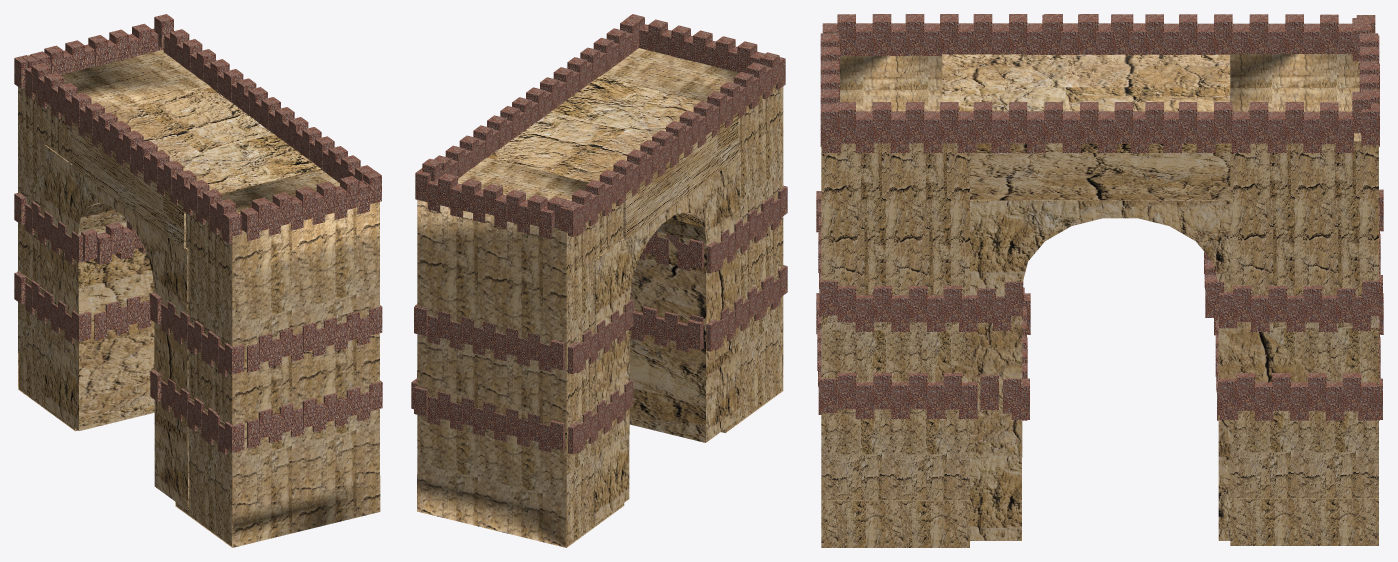
File: Sumerian_entrance.fbx
3 renders of one model, left to right at view 1: azimuth 30°, elevation 25°; view 2: azimuth 150°, elevation 25°; view 3: azimuth 270°, elevation 25°, orthographic. The views are drawn at different scales.
Visible parts, largest first — view 1: Cube.151, Circle, Cube.149, Cube.340, Cube.652, Cube.649, Cube.604, Cube.364, Cube.416, Cube.417, Cube.418, Cube.414 (+10 smaller); view 2: Cube.340, Circle, Cube.149, Cube.151, Cube.362, Cube.429, Cube.422, Cube.414, Cube.421, Cube.626, Cube.437; view 3: Cube.151, Cube.340, Cube.149, Circle, Cube.398, Cube.406, Cube.390, Cube.386, Cube.383, Cube.425, Cube.403, Cube.412 (+65 smaller).
Part boxes in pixels (x1=…): Cube.151: x1=175, y1=170, x2=380, y2=547; Circle: x1=44, y1=145, x2=189, y2=510; Cube.149: x1=72, y1=88, x2=321, y2=249; Cube.340: x1=17, y1=49, x2=211, y2=431; Cube.652: x1=224, y1=421, x2=244, y2=452; Cube.649: x1=224, y1=343, x2=244, y2=374; Cube.604: x1=71, y1=310, x2=91, y2=341; Cube.364: x1=222, y1=211, x2=241, y2=244; Cube.416: x1=240, y1=207, x2=259, y2=241; Cube.417: x1=251, y1=197, x2=271, y2=231; Cube.418: x1=295, y1=186, x2=315, y2=220; Cube.414: x1=272, y1=192, x2=292, y2=225; Cube.340: x1=417, y1=158, x2=624, y2=547; Circle: x1=593, y1=154, x2=739, y2=523; Cube.149: x1=488, y1=76, x2=738, y2=240; Cube.151: x1=600, y1=48, x2=783, y2=433; Cube.362: x1=560, y1=204, x2=580, y2=236; Cube.429: x1=438, y1=173, x2=457, y2=207; Cube.422: x1=648, y1=19, x2=667, y2=52; Cube.414: x1=715, y1=36, x2=735, y2=69; Cube.421: x1=671, y1=25, x2=690, y2=58; Cube.626: x1=687, y1=319, x2=703, y2=350; Cube.437: x1=506, y1=189, x2=525, y2=223; Cube.151: x1=821, y1=55, x2=969, y2=547; Cube.340: x1=1230, y1=54, x2=1378, y2=545; Cube.149: x1=942, y1=54, x2=1230, y2=200; Circle: x1=935, y1=200, x2=1307, y2=540; Cube.398: x1=1114, y1=102, x2=1133, y2=143; Cube.406: x1=1267, y1=111, x2=1286, y2=152; Cube.390: x1=991, y1=111, x2=1010, y2=152; Cube.386: x1=923, y1=111, x2=942, y2=152; Cube.383: x1=890, y1=111, x2=909, y2=152; Cube.425: x1=821, y1=103, x2=839, y2=145; Cube.403: x1=1320, y1=102, x2=1338, y2=143; Cube.412: x1=1145, y1=102, x2=1163, y2=143.
Bounding box in the file's own units: 323 × 663 × 763.
Materials: 2 (2 with a texture image).
